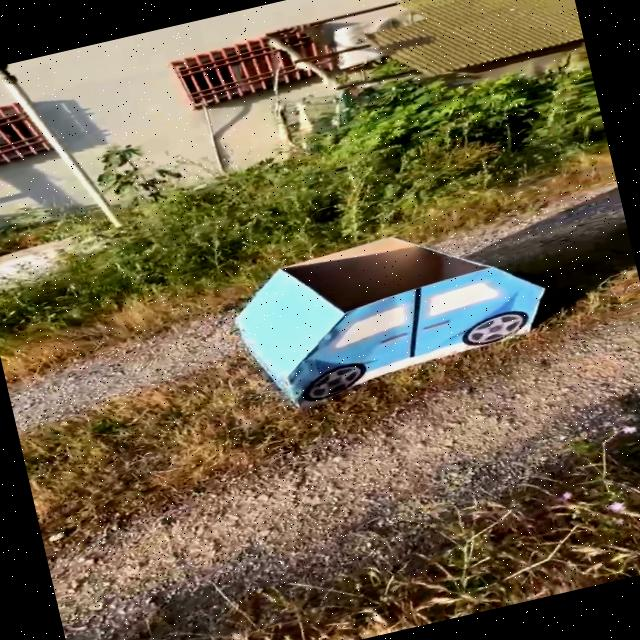blue_car: (186, 184, 601, 437)
